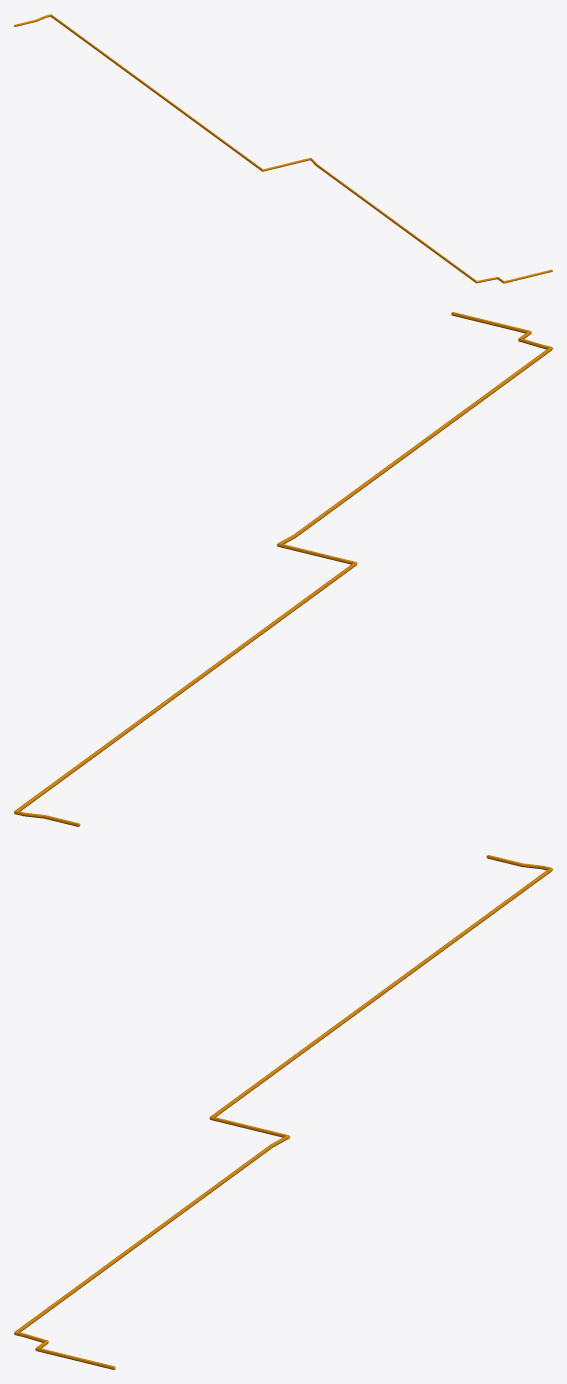
3 views of the same model, one above another, from view 1: azimuth 30°, elevation 25°; view 2: azimuth 150°, elevation 25°; view 3: azimuth 330°, elevation 25° (orthographic). The views are drawn at different scales.
Size of the model in its own units: 1444 by 20 by 6318.
